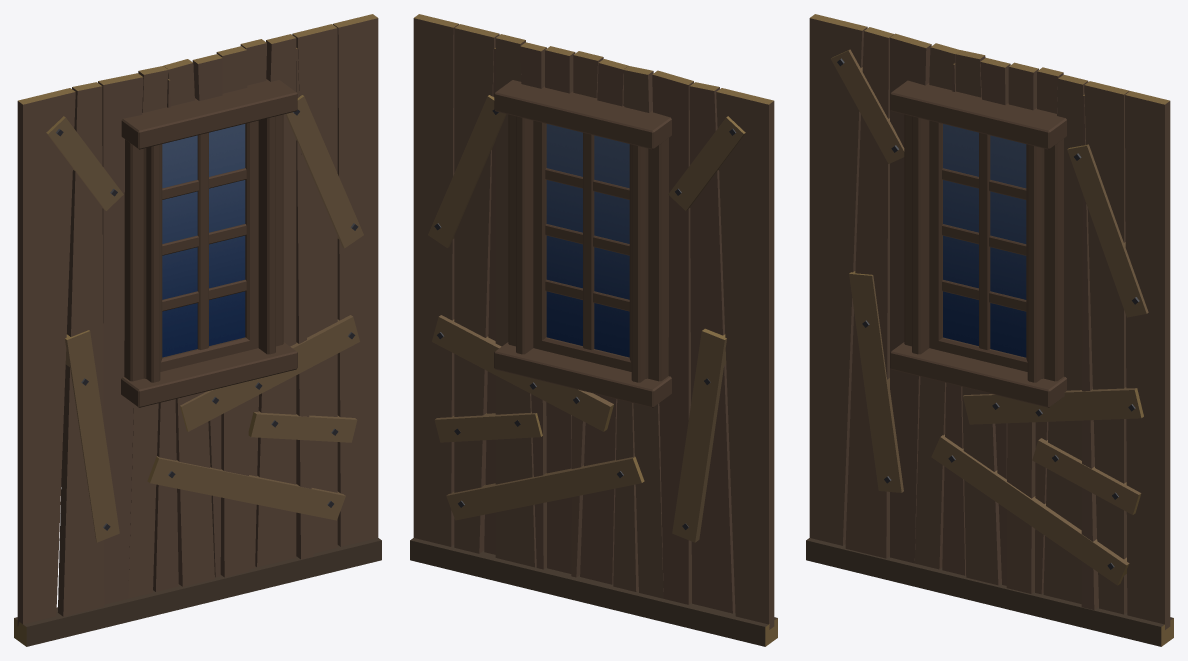
The model's file is Wall_1H_Window_4mx6m.fbx.
3 views of the same model, side by side, from view 1: azimuth 30°, elevation 25°; view 2: azimuth 150°, elevation 25°; view 3: azimuth 330°, elevation 25° (orthographic).
Visible parts, largest first — view 1: pCube2414; view 2: pCube2414; view 3: pCube2414.
Boxes of the visible parts, bbox=[...] form: pCube2414: bbox=[14, 14, 381, 646]; pCube2414: bbox=[410, 14, 777, 646]; pCube2414: bbox=[806, 14, 1173, 646].
Bounding box in the file's own units: 400 × 581 × 80.
